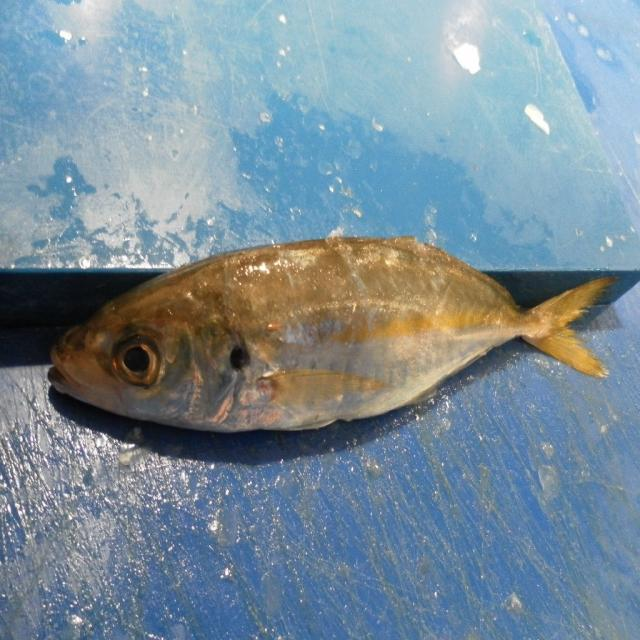Hourse-Mackerel-istavrit-: (46, 232, 629, 437)
